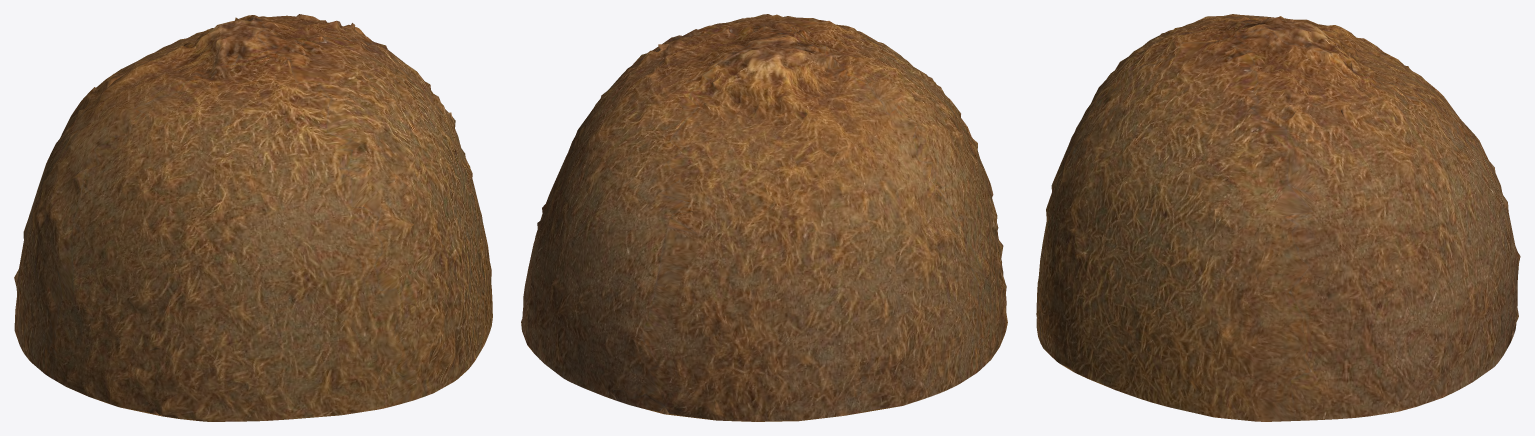
The model's file is halfA.glb.
The picture shows the model from 3 angles, left to right: view 1: azimuth 30°, elevation 25°; view 2: azimuth 150°, elevation 25°; view 3: azimuth 270°, elevation 25°; orthographic projection. The views are drawn at different scales.
Parts seen in each view (by area): view 1: food_kiwi_01; view 2: food_kiwi_01; view 3: food_kiwi_01.
Part boxes in pixels (box(x1,y1,x2,y2)): food_kiwi_01: box(14, 14, 492, 421); food_kiwi_01: box(521, 14, 1007, 421); food_kiwi_01: box(1036, 14, 1520, 421).
Bounding box in the file's own units: 1.53 × 1 × 1.52.
3 materials, 1 textured.
